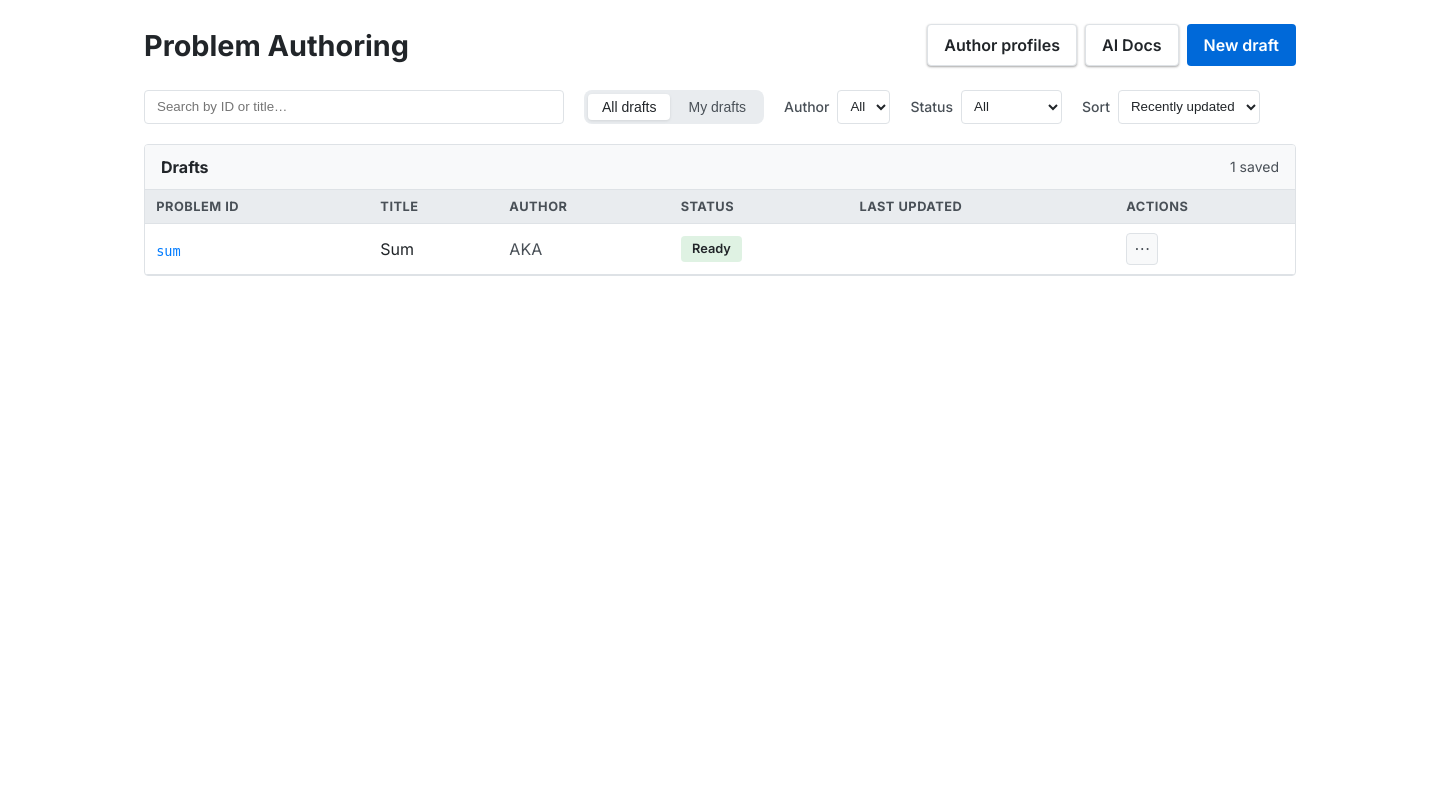
Scenario: lists resumable drafts and creates a draft with explicit author metadata
The image size is (1440, 809).
Expected: the element named "Saved drafts" is shown, top-left (145, 190), bottom-right (1295, 275)
Click the button "New draft" at (1241, 45), box top-left (1186, 24), bottom-right (1296, 66)
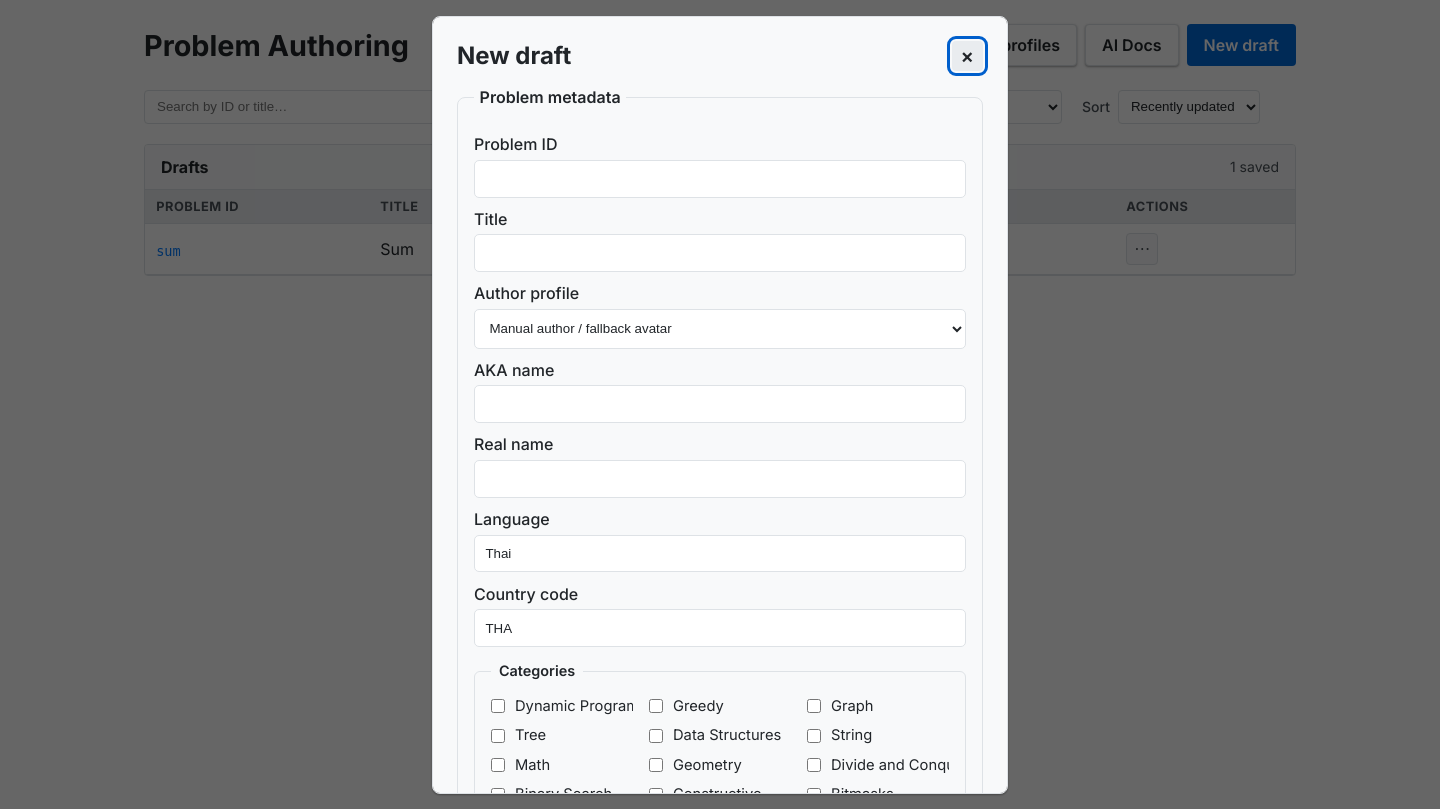
Type "new" into the field labelled "Problem ID" at (720, 179), box top-left (474, 160), bottom-right (966, 198)
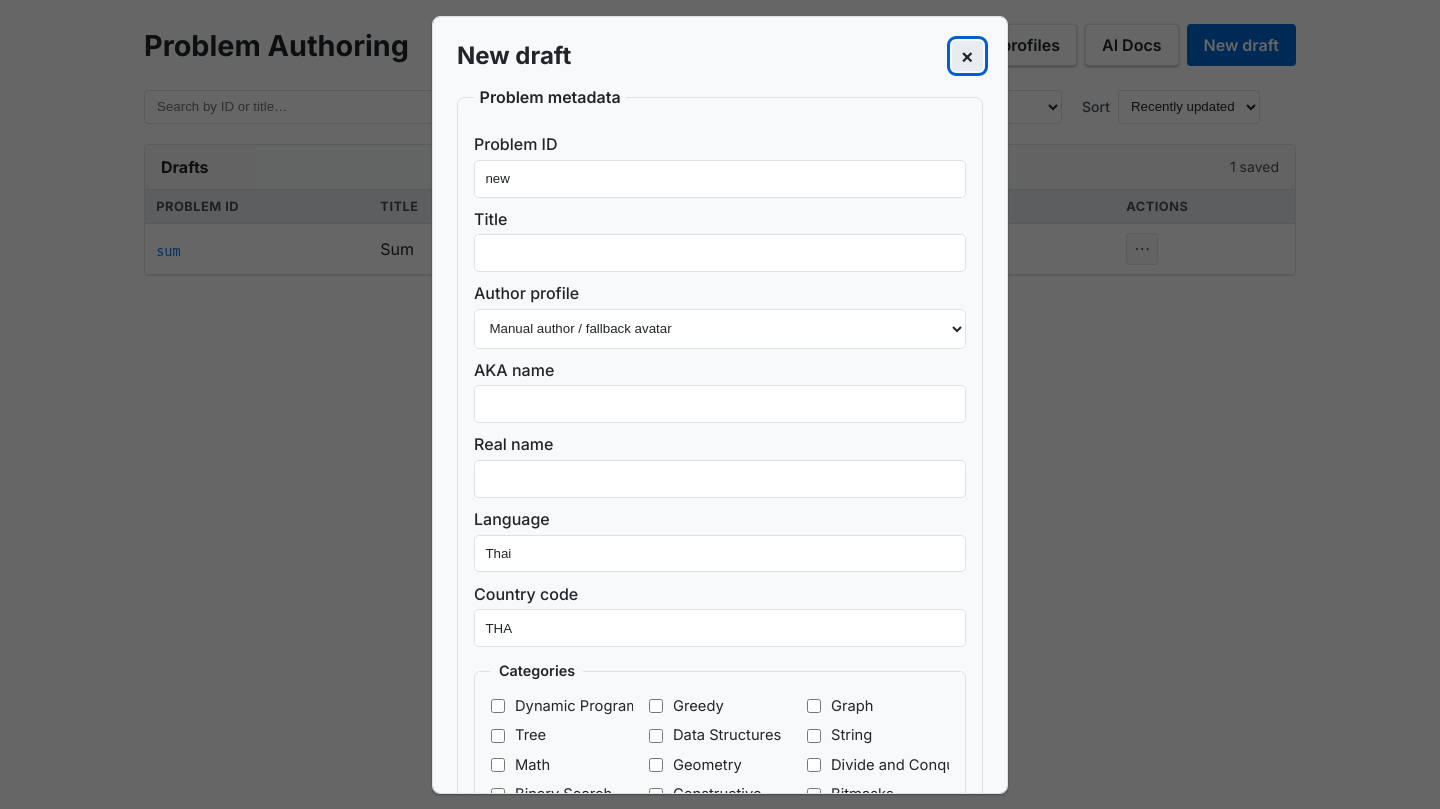
Type "New problem" into the field labelled "Title" at (720, 253), box top-left (474, 234), bottom-right (966, 272)
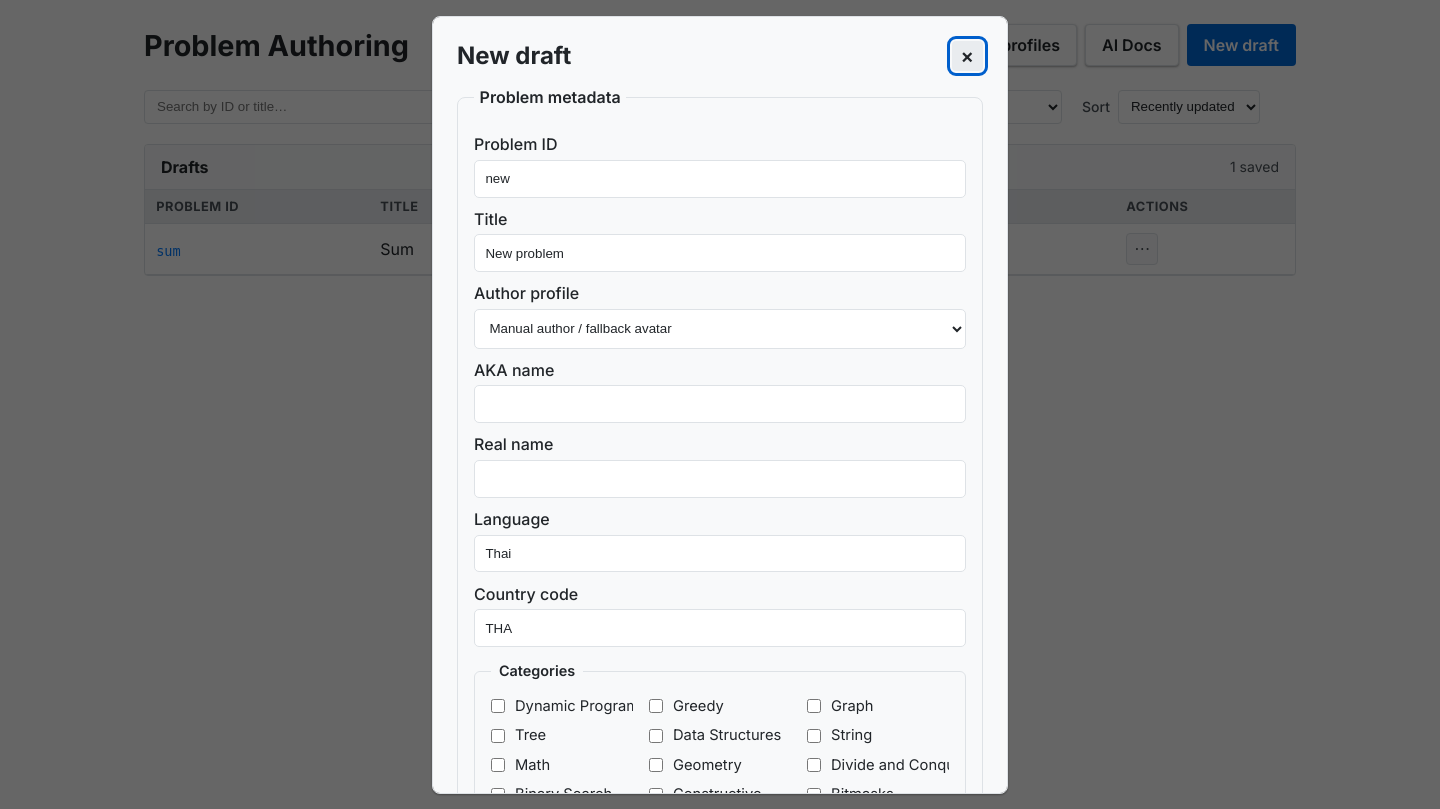
Type "Writer" into the field labelled "AKA name" at (720, 404), box top-left (474, 386), bottom-right (966, 423)
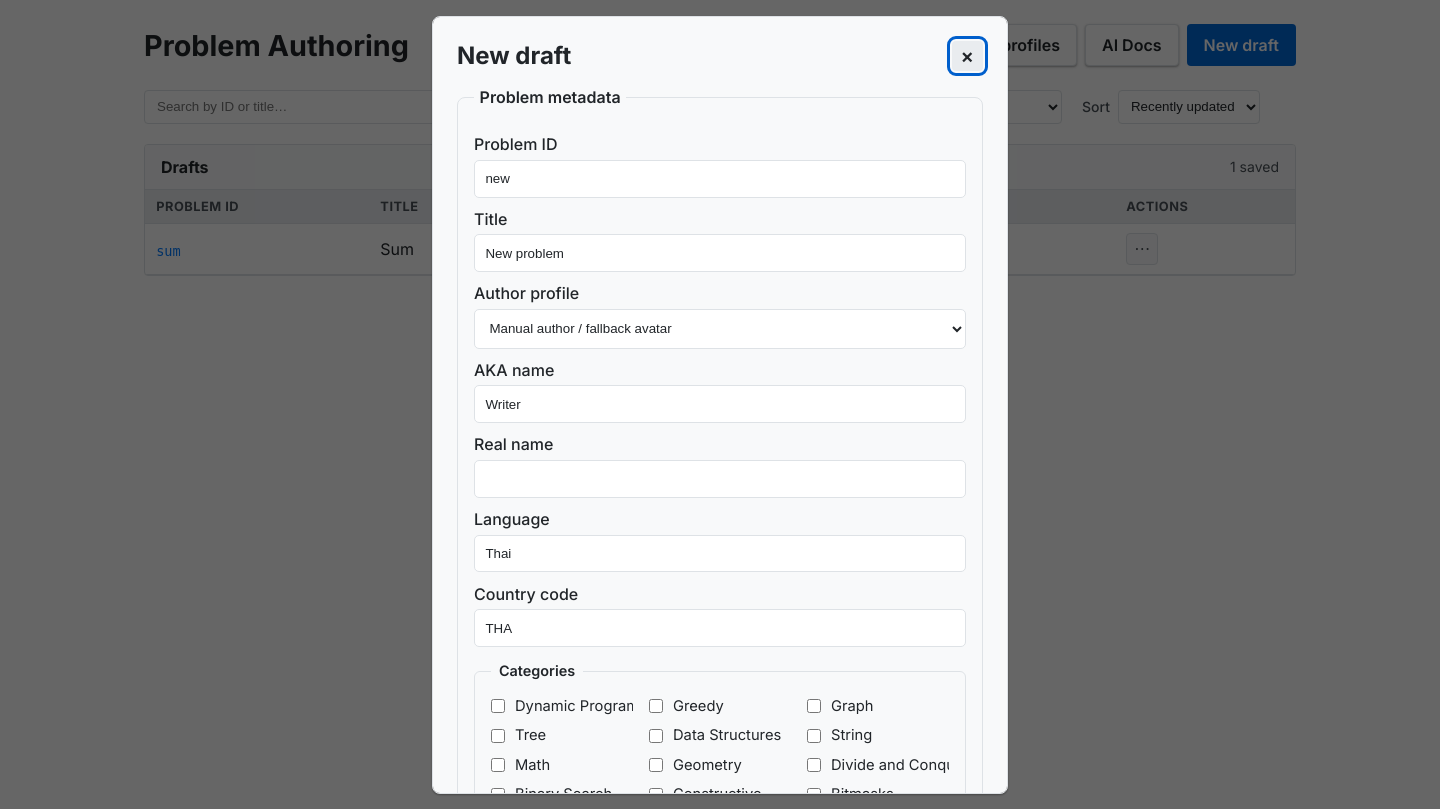
Type "Name" into the field labelled "Real name" at (720, 479), box top-left (474, 460), bottom-right (966, 498)
(page scrolled)
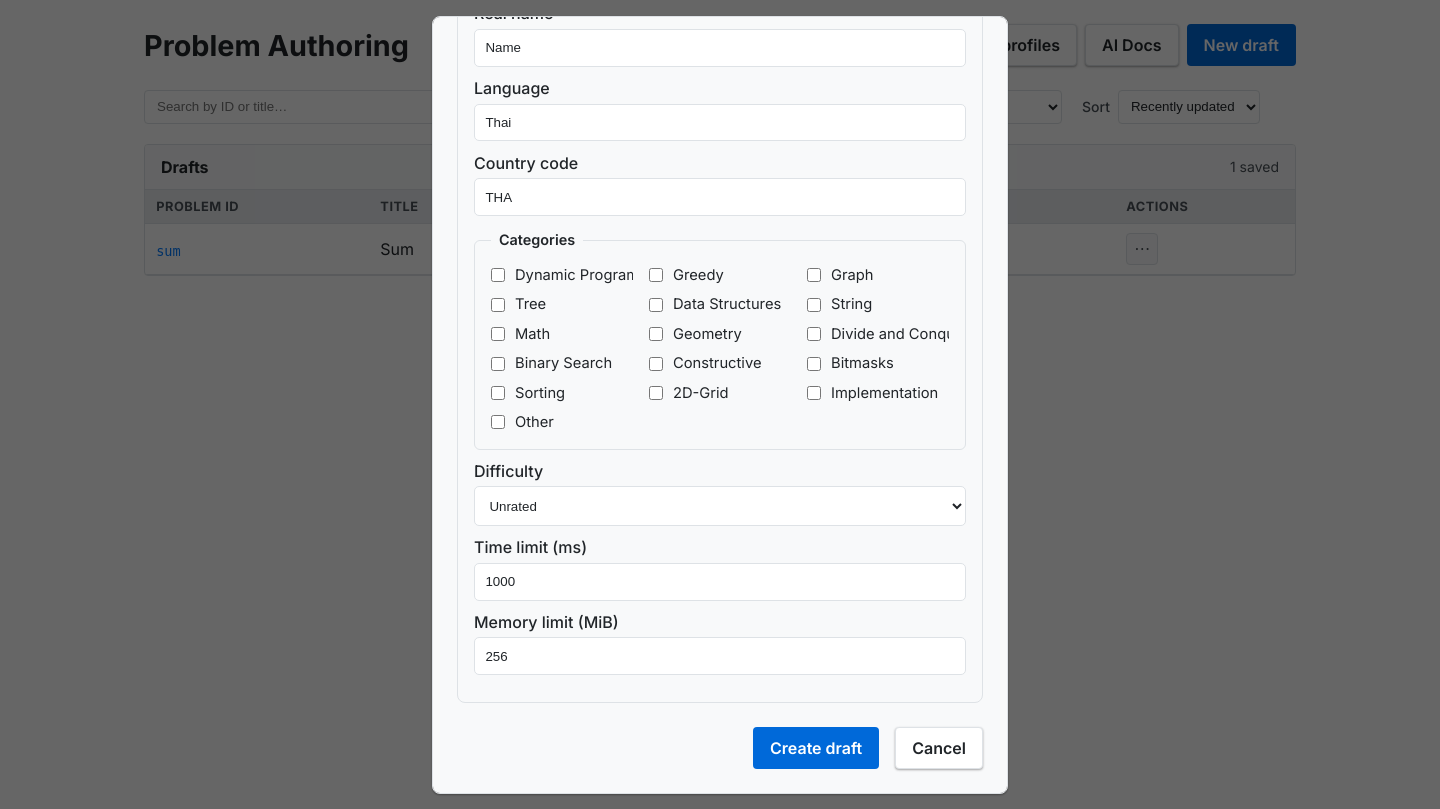
Click the button "Create draft" at (816, 748), box top-left (753, 728), bottom-right (879, 770)
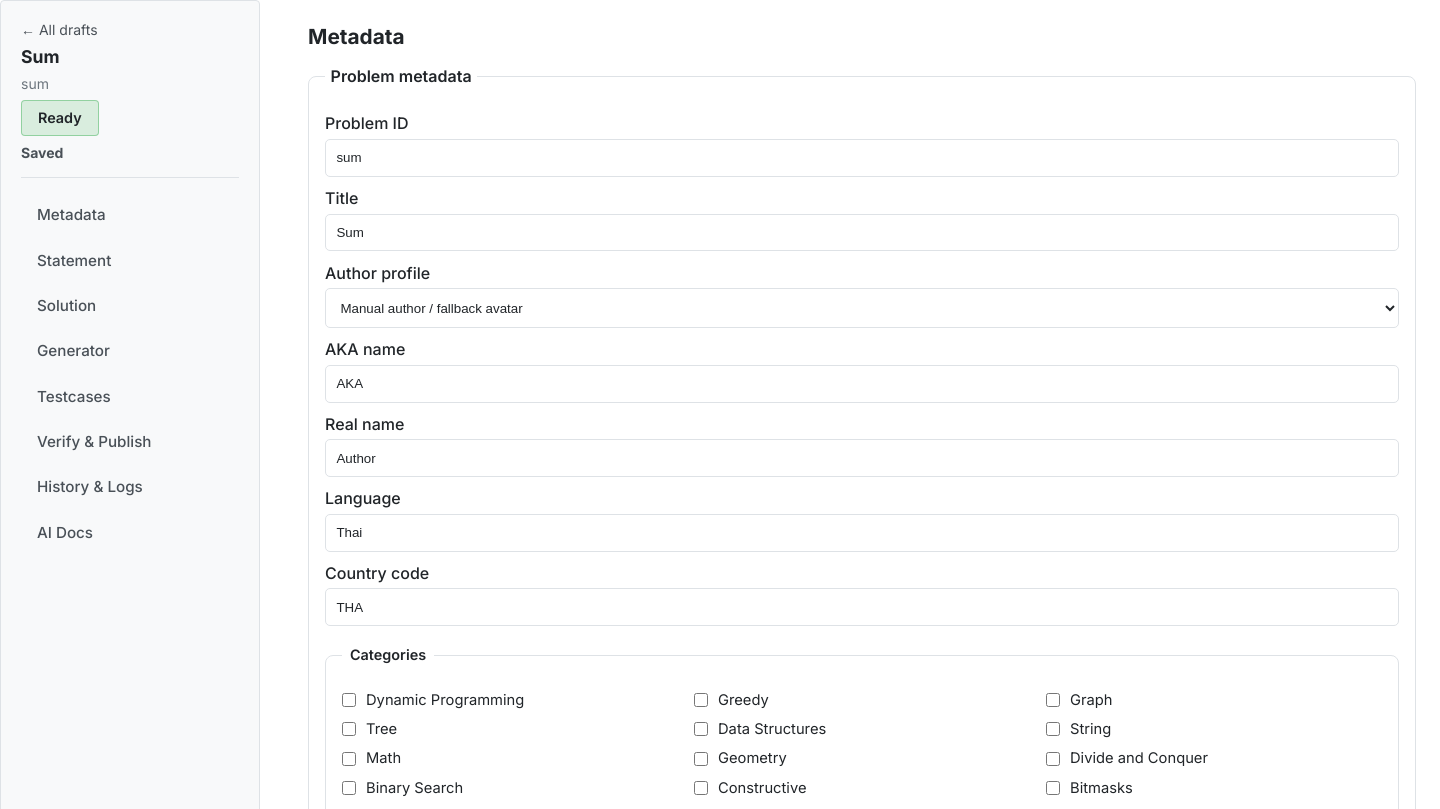
Expected: the link "Statement" is shown, top-left (37, 251), bottom-right (111, 270)
